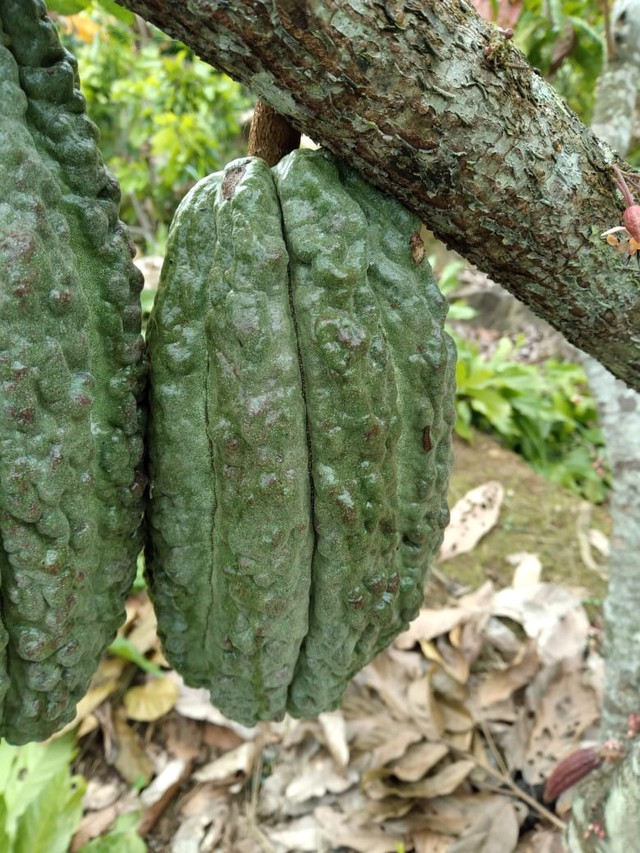Health: (118, 129, 483, 733)
